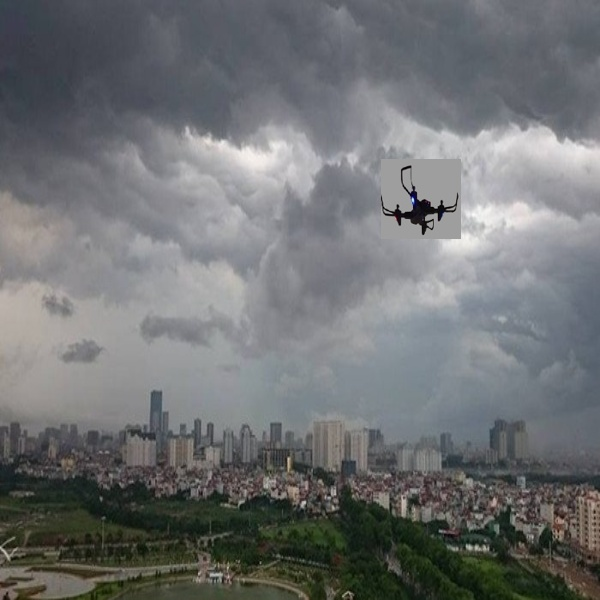drone: (381, 158, 462, 236)
